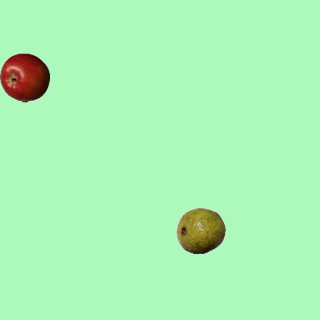Apple Braeburn: (0, 52, 49, 102)
Guava: (175, 205, 225, 255)
